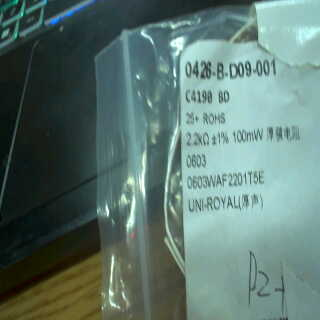2.2kR: (183, 128, 212, 149)
